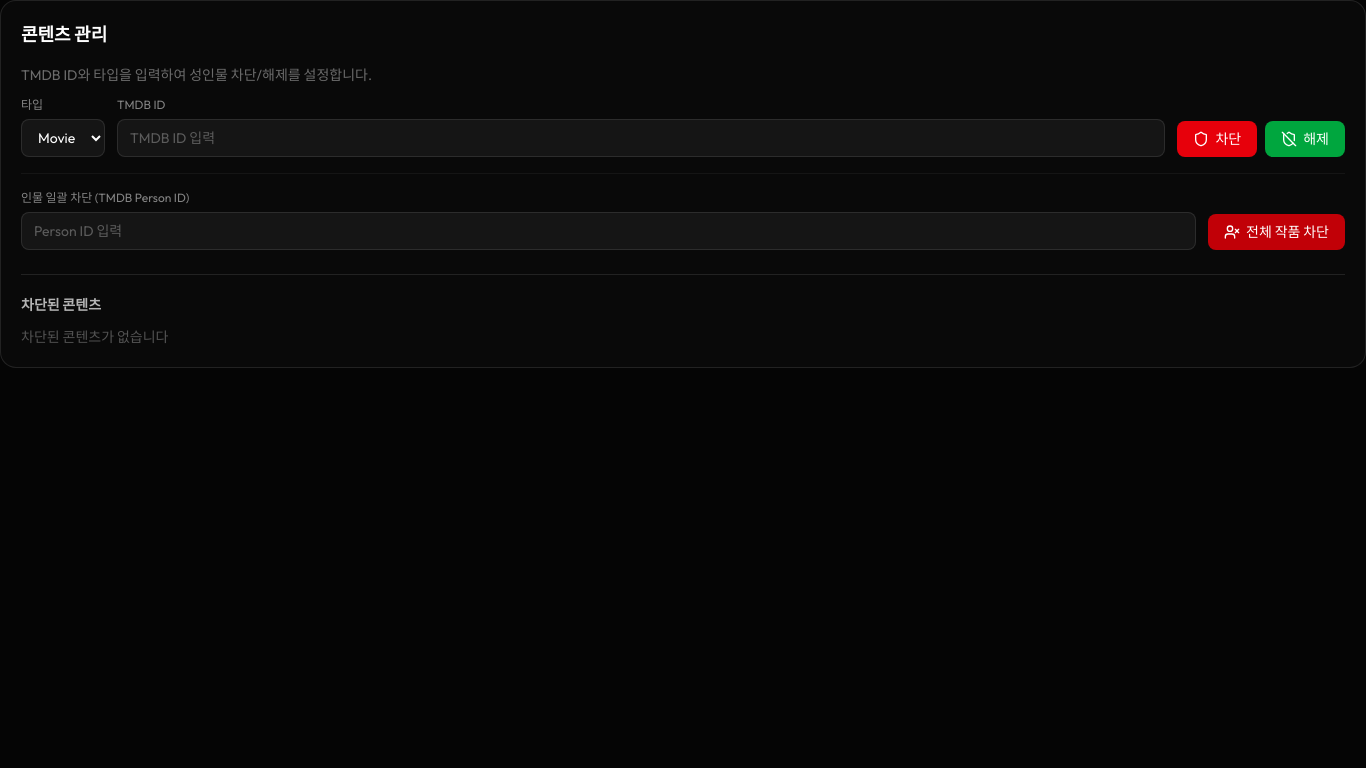
ContentManagement › 해제 버튼 클릭 시 확인 모달을 표시해야 한다
Type "12345" into the number field labelled "TMDB ID".
click(641, 138); type("12345")  # box [117, 119, 1166, 157]
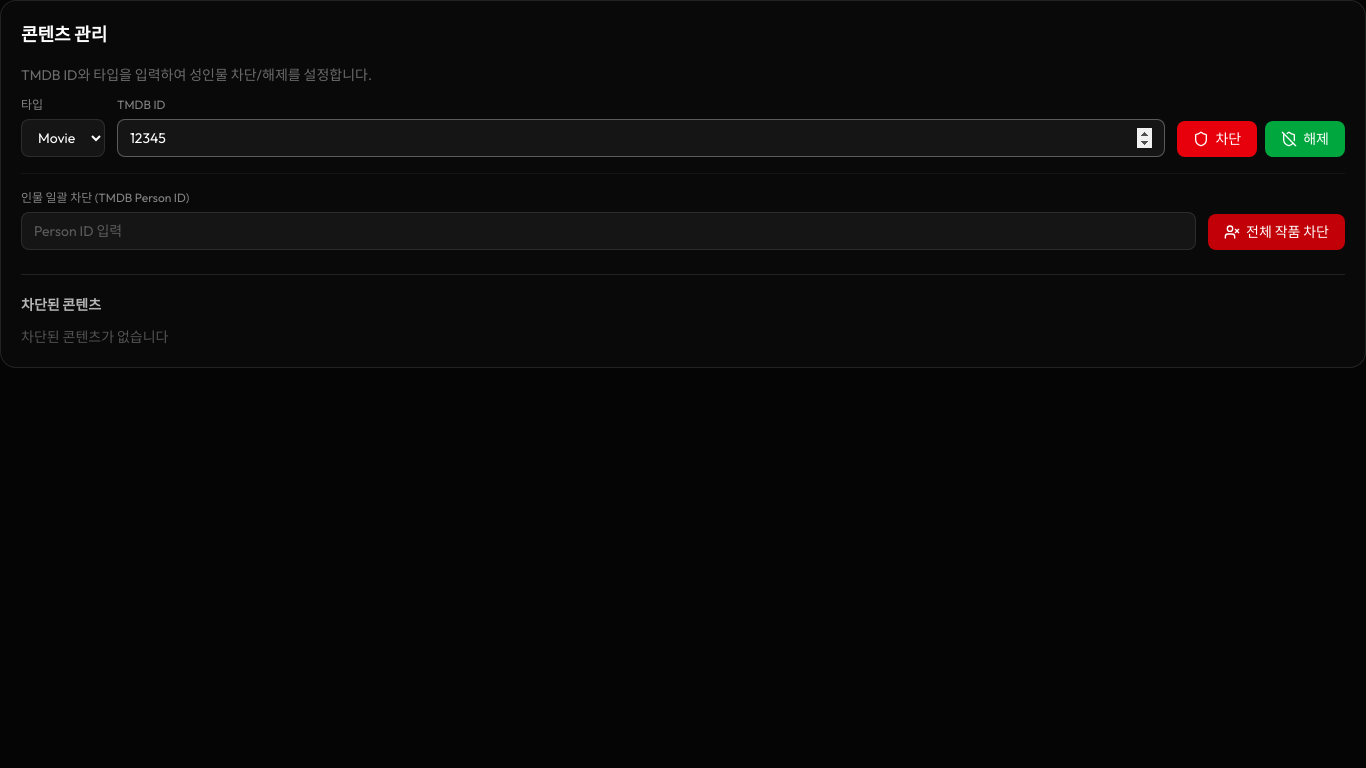
폼의 해제 버튼
Click the button "해제".
click(1305, 139)  # box [1265, 121, 1345, 157]
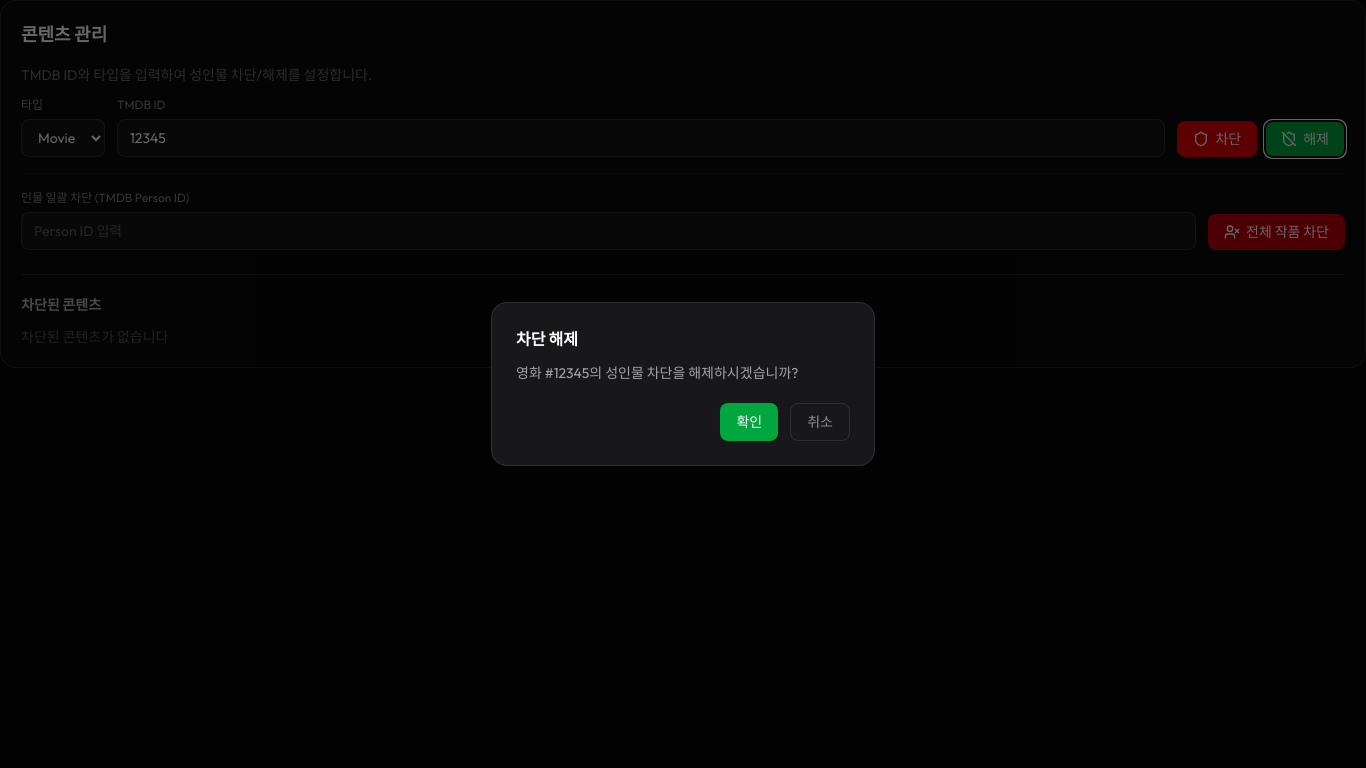
Expected: the heading "차단 해제" is shown, [516, 329, 578, 349]
Expected: the text "영화 #12345의 성인물 차단을 해제하시겠습니까?" is shown, [516, 364, 798, 382]
